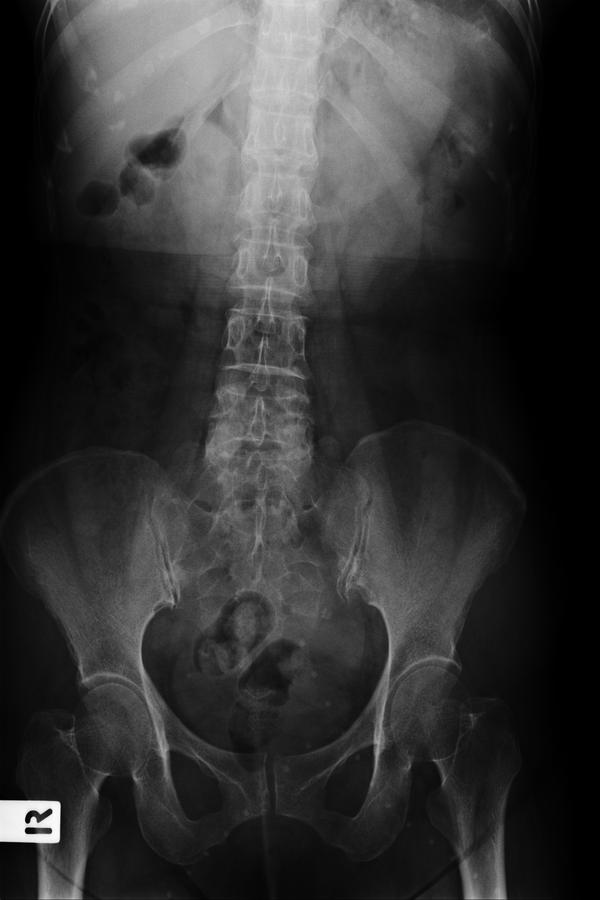lumbar scoliosis: (200, 138, 326, 516)
